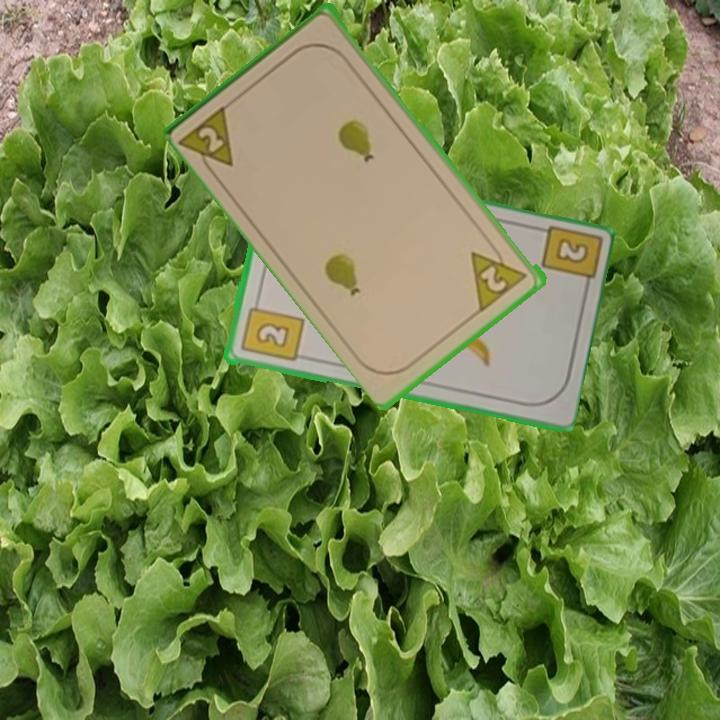2b: (237, 295, 306, 365), (536, 223, 601, 297)
2p: (467, 237, 531, 314), (177, 100, 237, 182)
